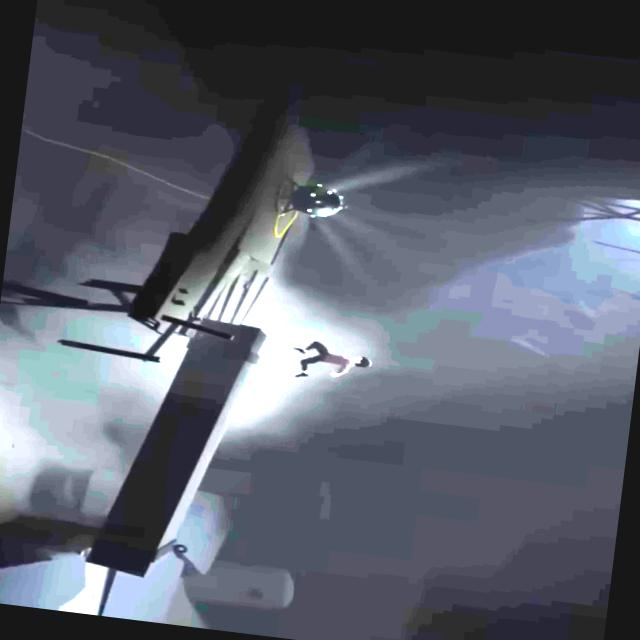boy: (296, 340, 372, 381)
